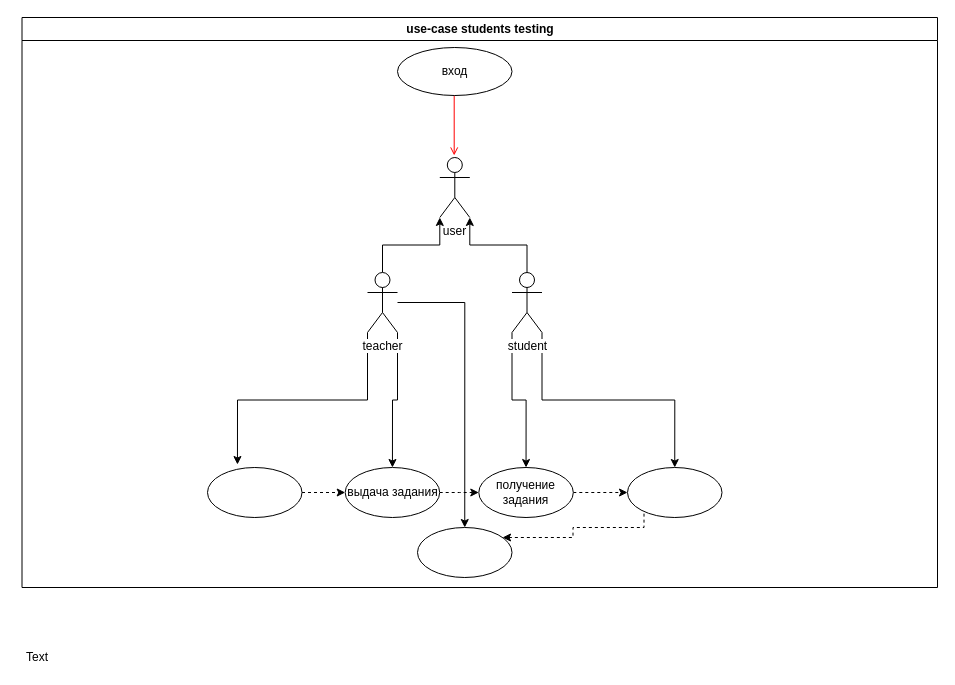
Image size: 955x685. Some labels were removed from this diagram. The centre of each missing label's shape, as x and y in pixels:
выполнение задания: (x=674, y=492)
просмотр выполненного: (x=464, y=552)
создание задания: (x=254, y=492)
